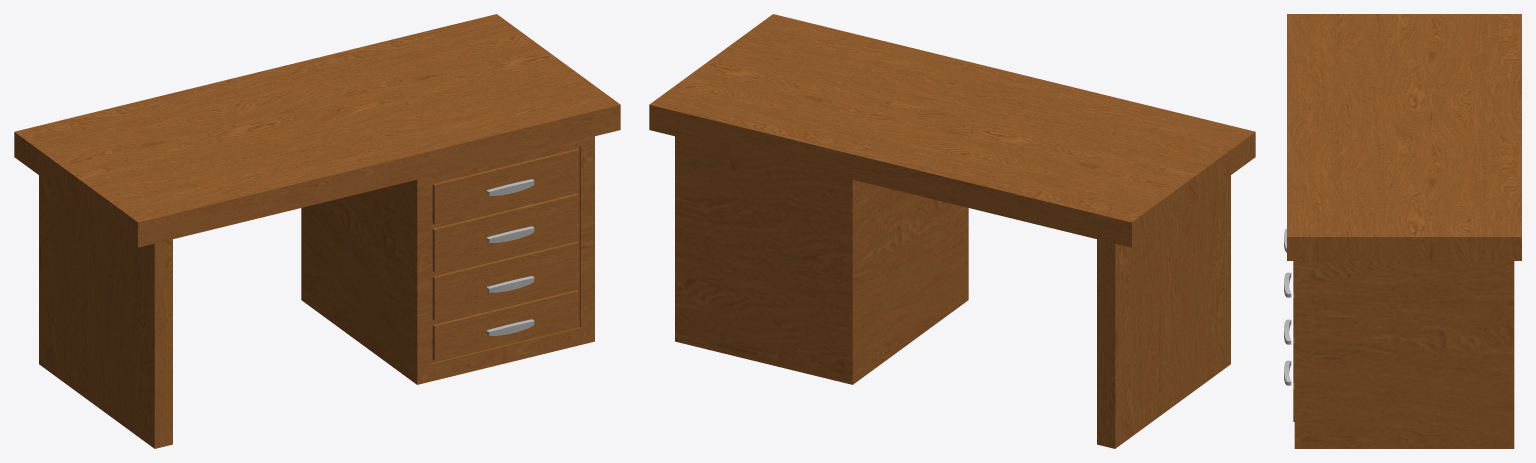
File: table.fbx
The picture shows the model from 3 angles, left to right: view 1: azimuth 30°, elevation 25°; view 2: azimuth 150°, elevation 25°; view 3: azimuth 270°, elevation 25°; orthographic projection. The views are drawn at different scales.
Parts seen in each view (by area): view 1: pCube17; view 2: pCube17; view 3: pCube17.
Part boxes in pixels (x1=…): pCube17: x1=14, y1=14, x2=620, y2=448; pCube17: x1=649, y1=14, x2=1255, y2=448; pCube17: x1=1284, y1=14, x2=1521, y2=448.
Bounding box in the file's own units: 2 × 0.9283 × 0.9011.
